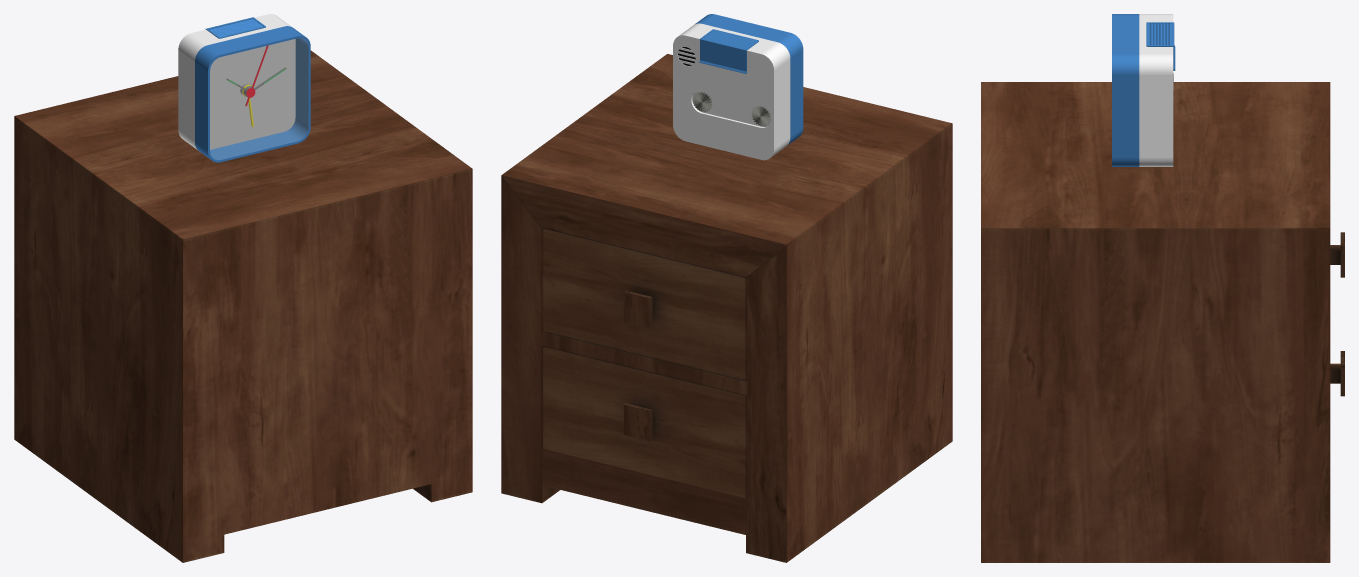
File: AlarmClock.glb
The picture shows the model from 3 angles, left to right: view 1: azimuth 30°, elevation 25°; view 2: azimuth 150°, elevation 25°; view 3: azimuth 270°, elevation 25°; orthographic projection. The views are drawn at different scales.
Parts seen in each view (by area): view 1: Bollard, ID41, ID22, ID14, Alarm Clock, ID35; view 2: Bollard, Alarm Clock, ID14, ID68, ID82; view 3: Bollard, Alarm Clock, ID14, ID144.
Boxes of the visible parts, bbox=[...] form: Bollard: bbox=[14, 50, 472, 562]; ID41: bbox=[210, 38, 308, 159]; ID22: bbox=[210, 39, 295, 149]; ID14: bbox=[195, 26, 310, 162]; Alarm Clock: bbox=[178, 14, 292, 149]; ID35: bbox=[210, 38, 308, 160]; Bollard: bbox=[501, 54, 952, 562]; Alarm Clock: bbox=[673, 23, 790, 160]; ID14: bbox=[689, 14, 803, 145]; ID68: bbox=[691, 87, 771, 127]; ID82: bbox=[699, 29, 758, 73]; Bollard: bbox=[981, 82, 1344, 562]; Alarm Clock: bbox=[1139, 14, 1173, 166]; ID14: bbox=[1112, 14, 1139, 166]; ID144: bbox=[1148, 23, 1171, 45].
Bounding box in the file's own units: 0.6138 × 0.886 × 0.645.
12 materials, 1 textured.
